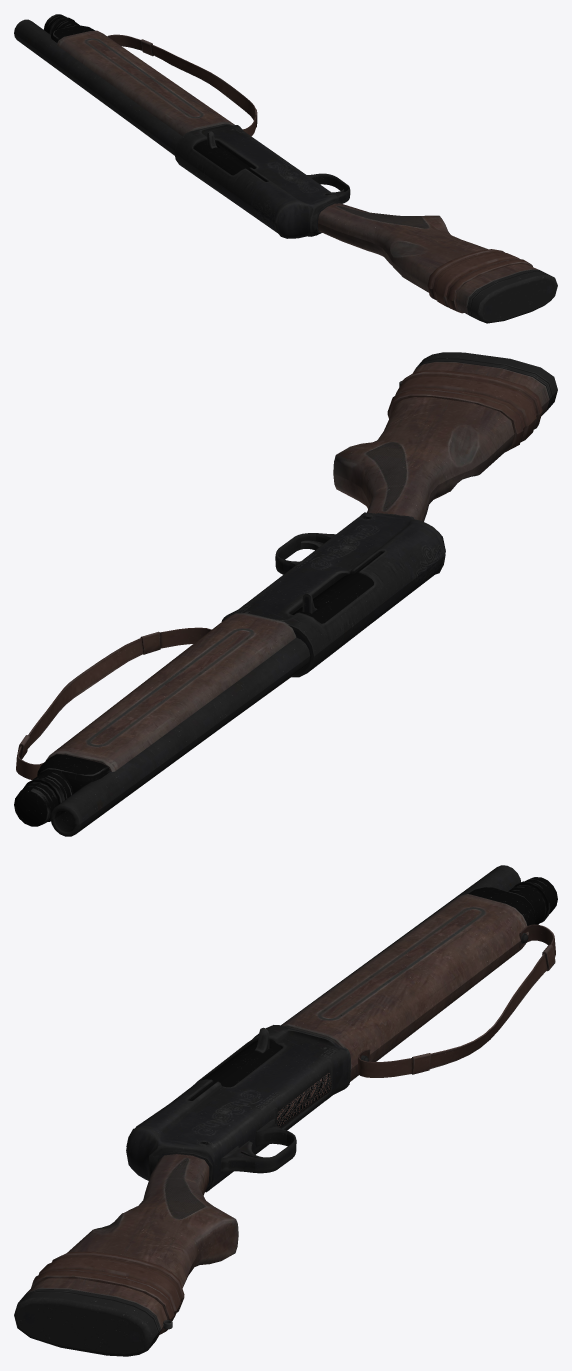
File: Shotgun.fbx
The picture shows the model from 3 angles, top to bottom: view 1: azimuth 30°, elevation 25°; view 2: azimuth 150°, elevation 25°; view 3: azimuth 330°, elevation 25°; orthographic projection. The views are drawn at different scales.
Parts seen in each view (by area): view 1: Shotgun; view 2: Shotgun; view 3: Shotgun.
Boxes of the visible parts, bbox=[...] form: Shotgun: bbox=[14, 14, 557, 323]; Shotgun: bbox=[14, 352, 557, 836]; Shotgun: bbox=[14, 865, 557, 1356].
Size of the model in its own units: 24.57 by 7.67 by 111.
1 material, 1 textured.
